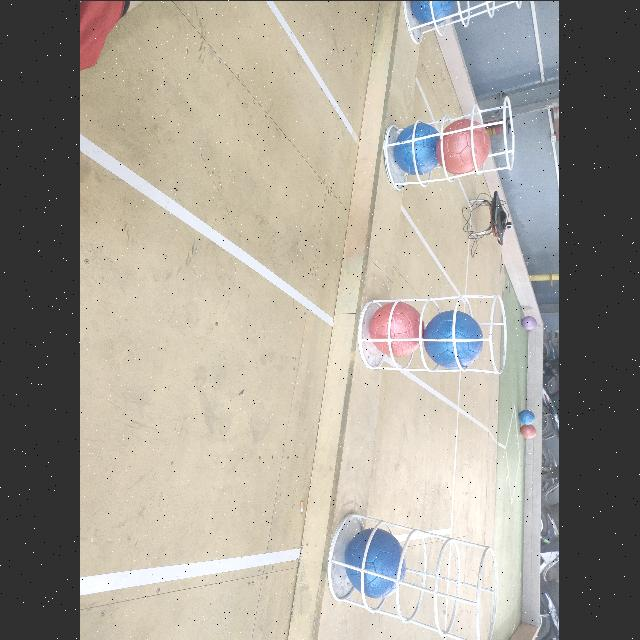B: (344, 528, 408, 596), (426, 310, 484, 370), (394, 121, 442, 173), (414, 0, 454, 26), (520, 411, 536, 424)
R: (437, 116, 491, 174), (372, 300, 426, 356), (523, 424, 537, 436)
